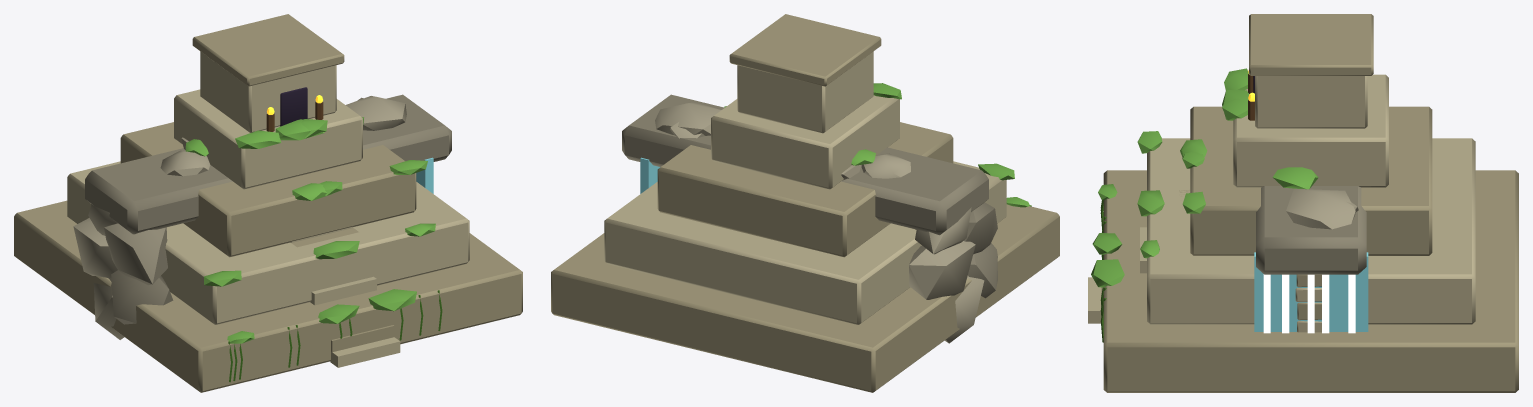
Rendered from jungle.glb.
3 views of the same model, side by side, from view 1: azimuth 30°, elevation 25°; view 2: azimuth 150°, elevation 25°; view 3: azimuth 270°, elevation 25° (orthographic). The views are drawn at different scales.
Parts seen in each view (by area): view 1: temple, waterfall_arch; view 2: temple, waterfall_arch; view 3: temple, waterfall_arch, ruin_arch.
Boxes of the visible parts, x1,y1,x2,y2 form: temple: (14, 14, 522, 392); waterfall_arch: (73, 94, 451, 339); temple: (551, 14, 1059, 392); waterfall_arch: (622, 94, 997, 343); temple: (1088, 14, 1518, 392); waterfall_arch: (1254, 167, 1368, 333); ruin_arch: (1295, 274, 1321, 332).
Size of the model in its own units: 24.76 by 18.44 by 24.9.
